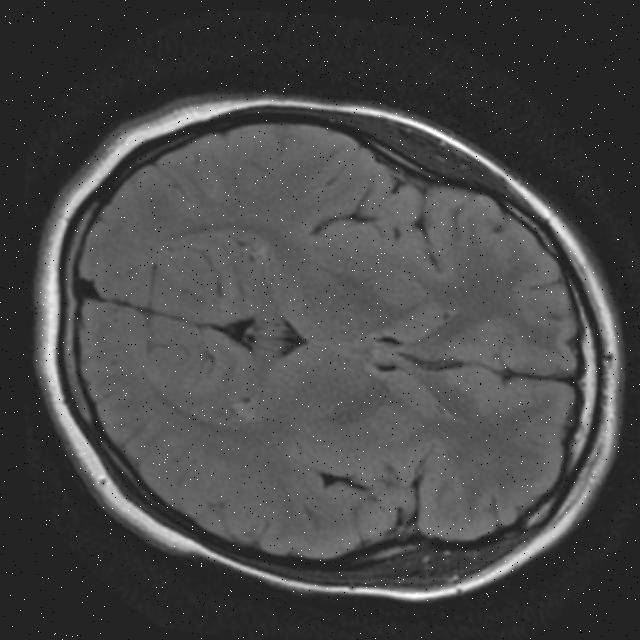NoTumor: (20, 81, 625, 615)
